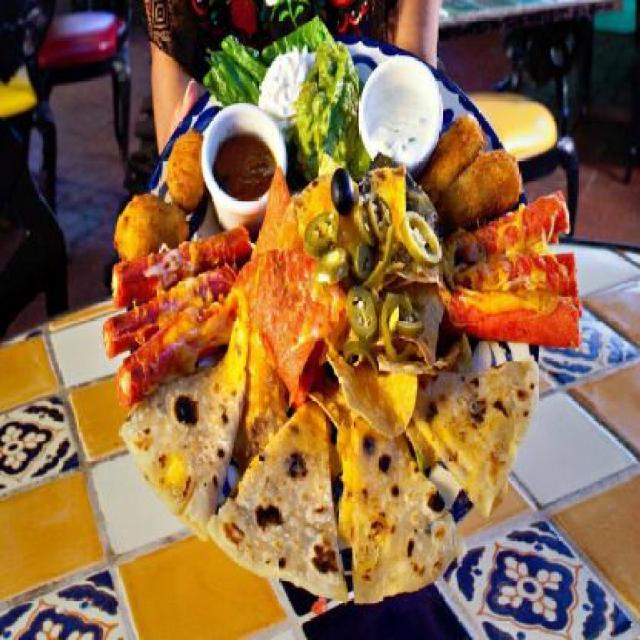chicken quesadilla: (119, 340, 546, 594)
guacamole: (295, 35, 368, 171)
nachos: (251, 164, 447, 436)
